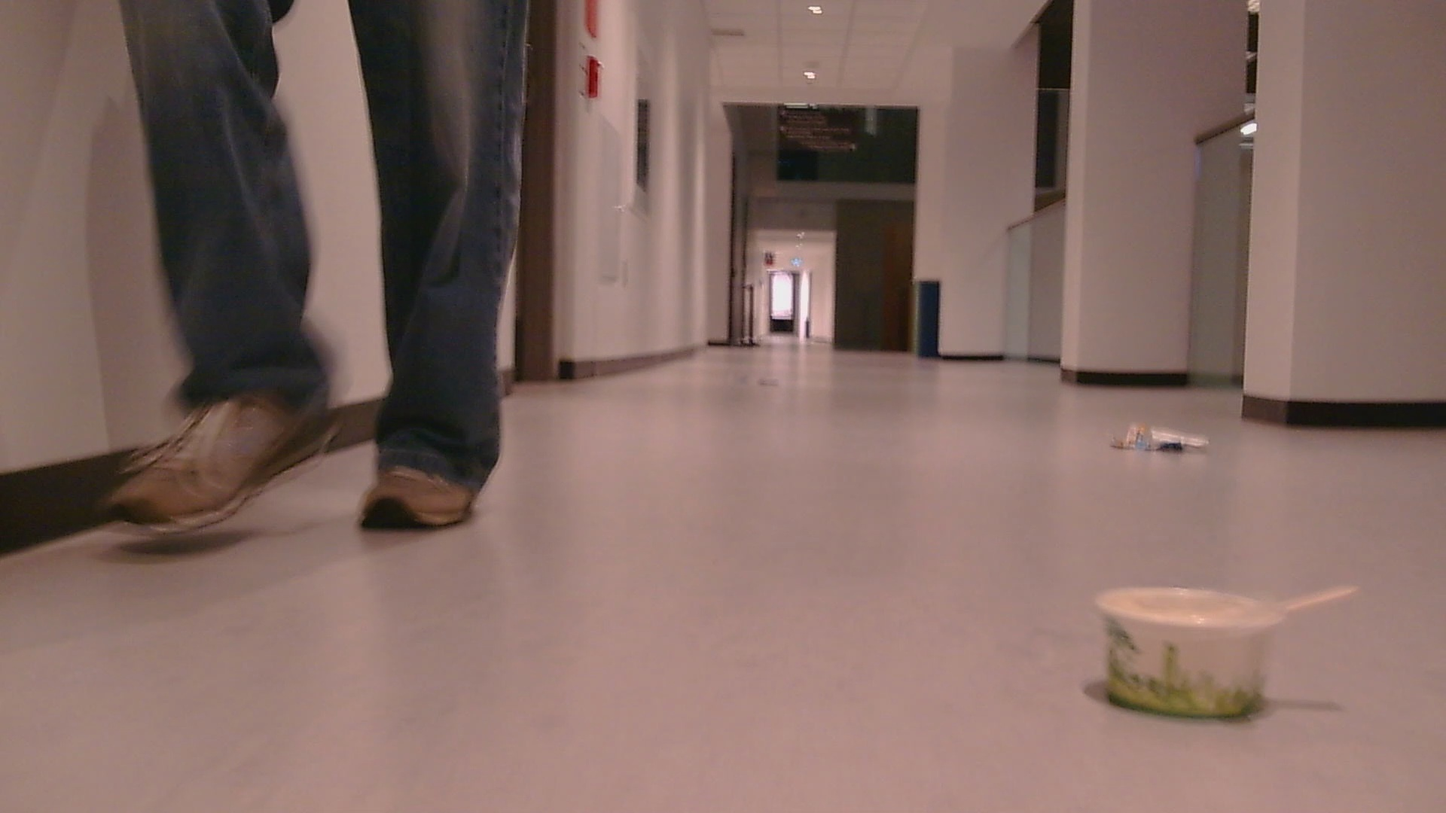carton: (1089, 542, 1372, 741), (1109, 408, 1226, 465)
